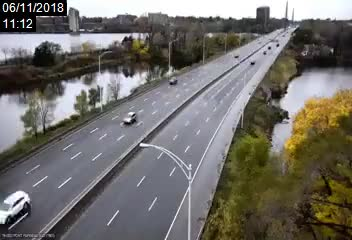personal_car: (1, 187, 31, 227), (122, 110, 137, 125), (166, 75, 178, 86)
